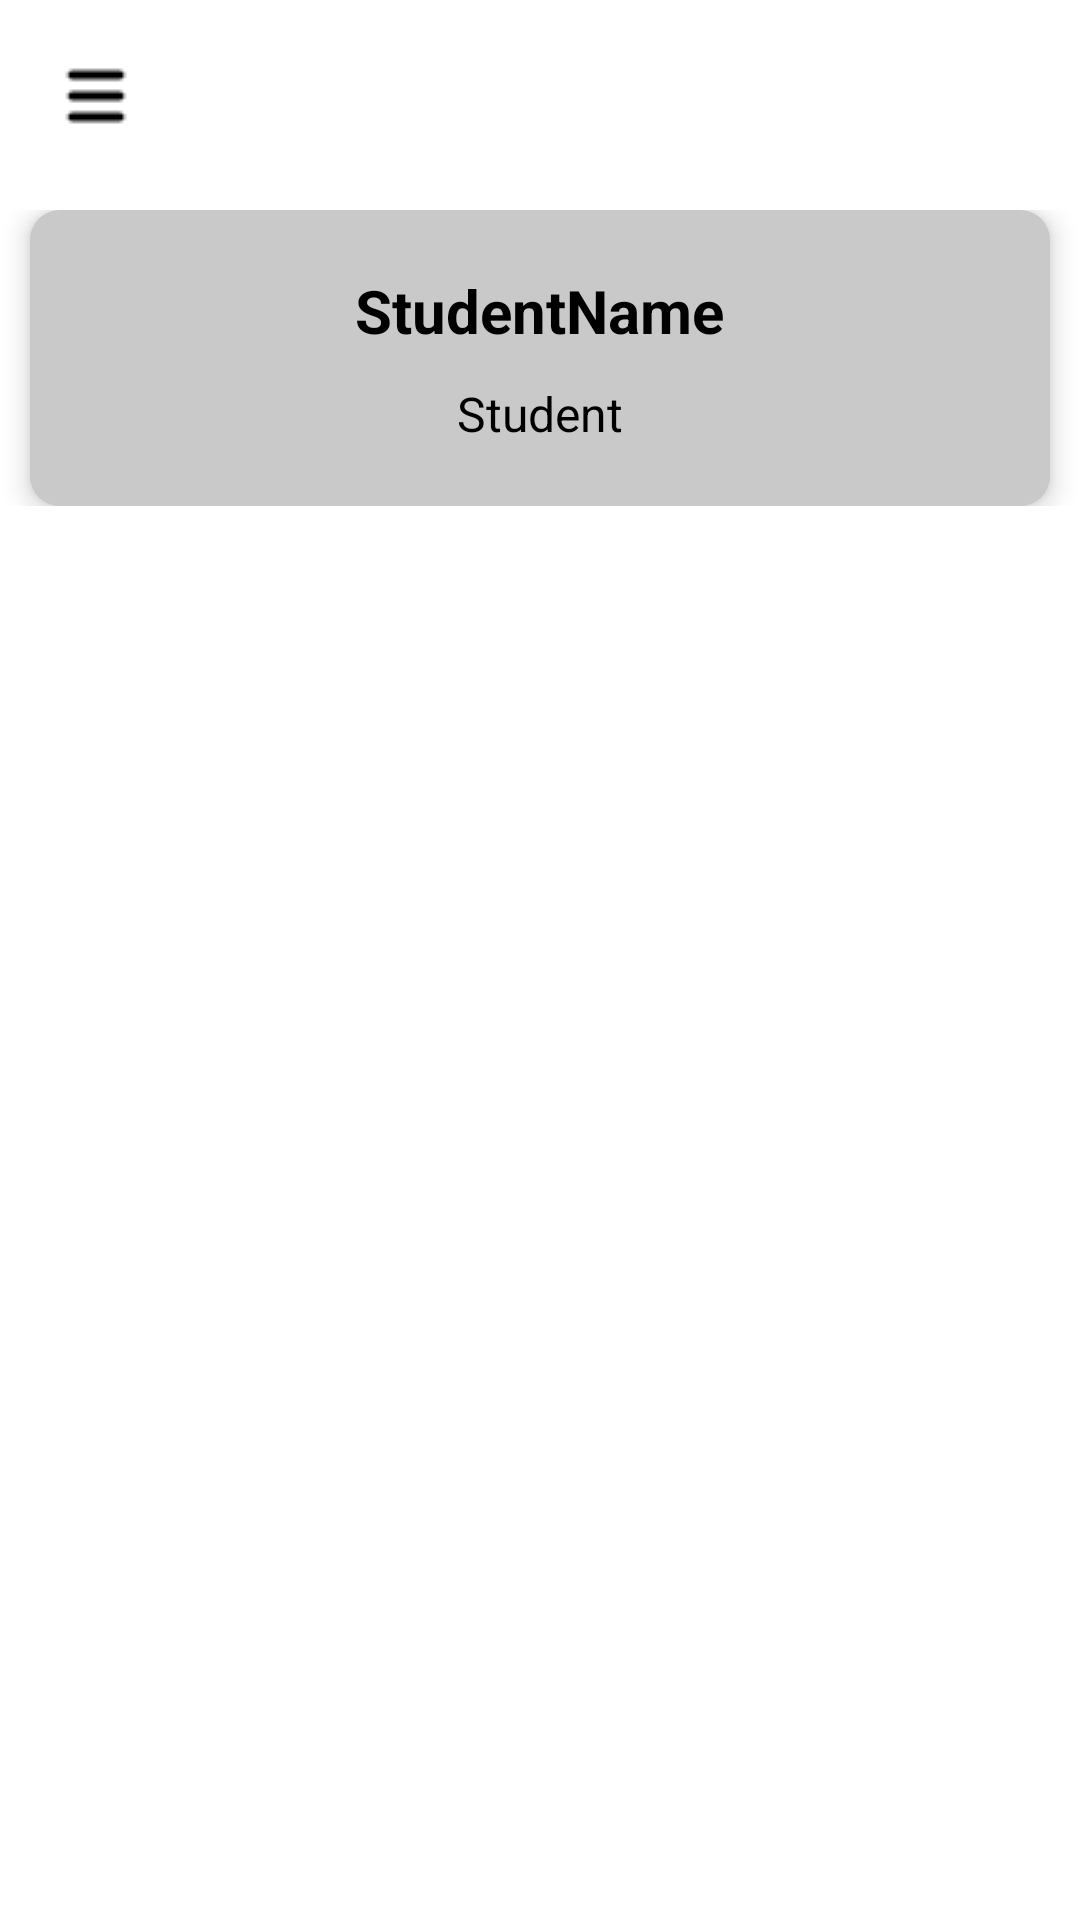

Point at icon controls on the screen. Image size 1080x1920, points as (x,y).
bars: (96,96)
